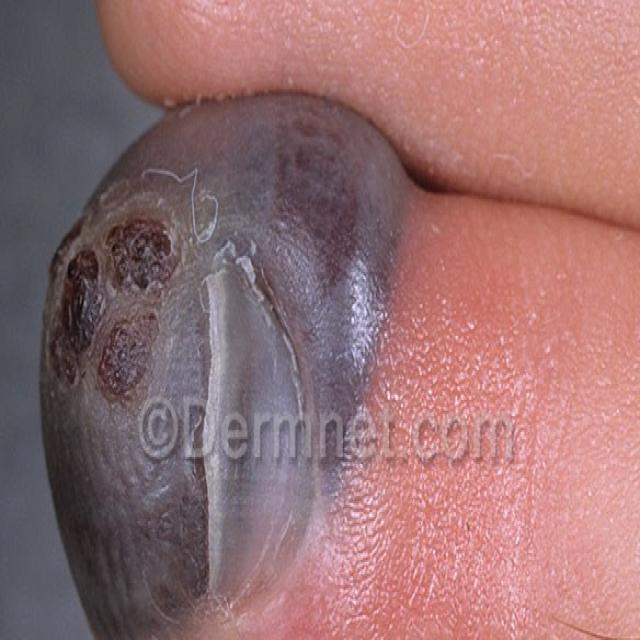Warts: (38, 60, 433, 640)
